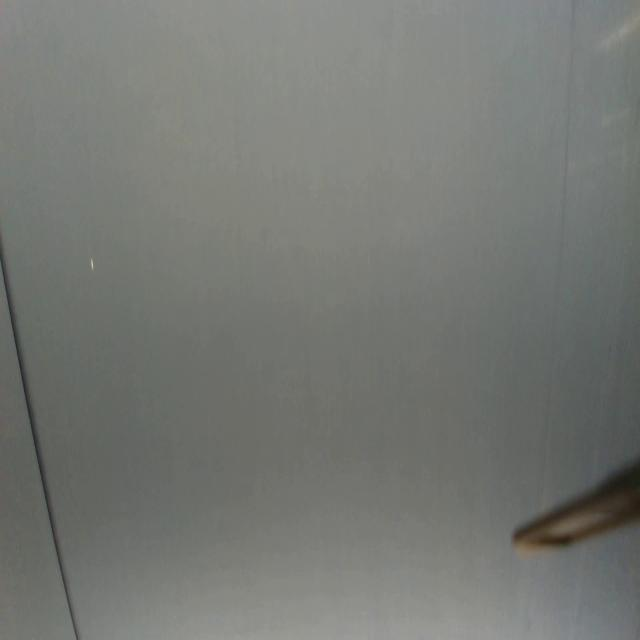crease: (0, 245, 80, 640), (558, 0, 578, 278)
hole: (90, 257, 96, 275)
